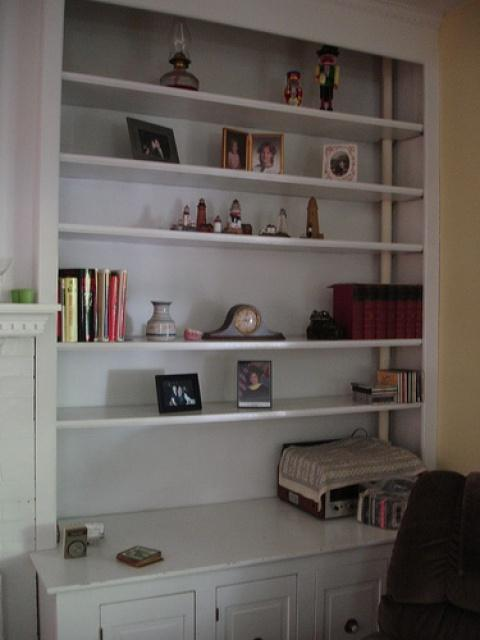Rak: (49, 0, 438, 540)
